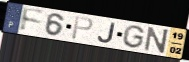6: (44, 12, 66, 37)
F: (19, 6, 46, 33)
G: (120, 24, 146, 49)
J: (97, 22, 117, 44)
N: (144, 26, 171, 54)
P: (70, 15, 94, 41)
